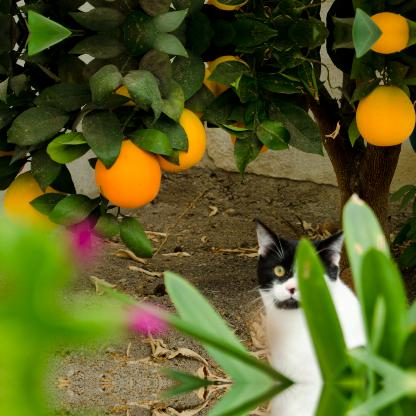Cat: (255, 218, 367, 382), (255, 382, 368, 415)
